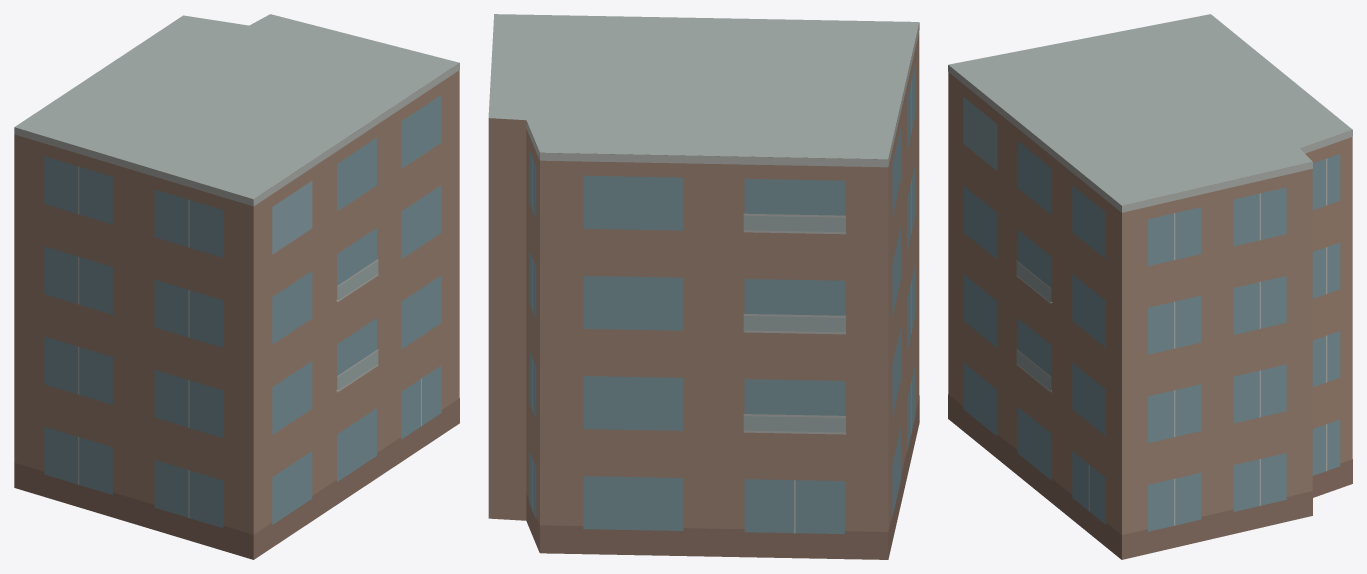
File: survey-upis-32924381.glb
3 renders of one model, left to right at view 1: azimuth 30°, elevation 25°; view 2: azimuth 150°, elevation 25°; view 3: azimuth 270°, elevation 25°, orthographic. The views are drawn at different scales.
Visible parts, largest first — view 1: survey-upis-32924381.tmp; view 2: survey-upis-32924381.tmp; view 3: survey-upis-32924381.tmp.
Part boxes in pixels (x1,y1,x2,y2): survey-upis-32924381.tmp: (14, 14, 459, 559); survey-upis-32924381.tmp: (488, 14, 919, 559); survey-upis-32924381.tmp: (948, 14, 1352, 559).
Size of the model in its own units: 14.18 by 12.2 by 12.64.
